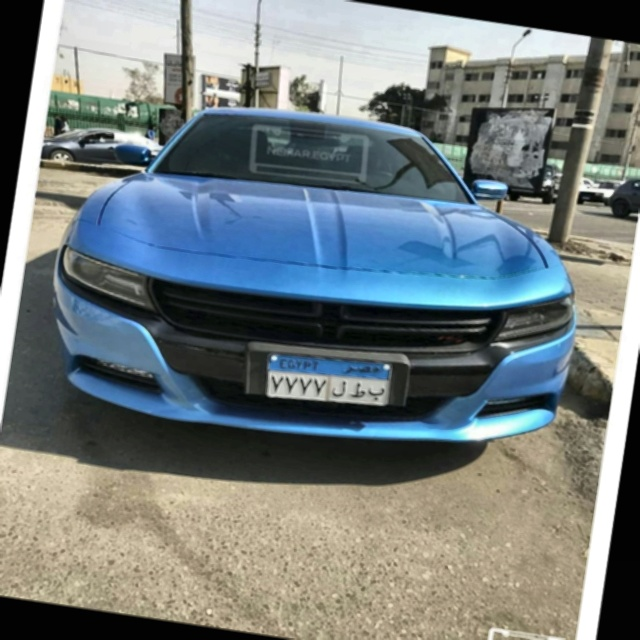License Plate: (260, 344, 396, 416)
